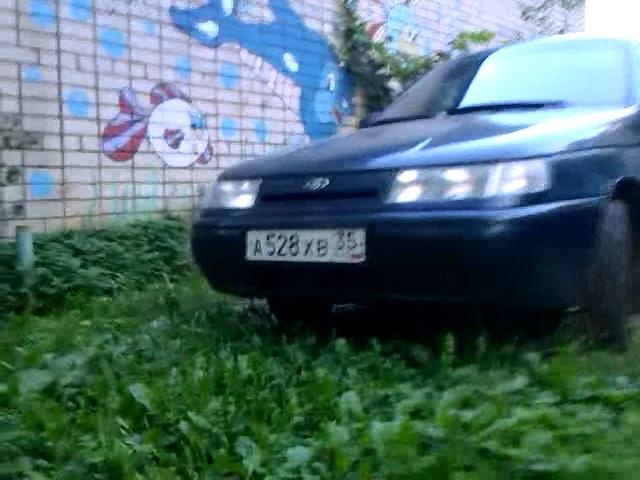car license plate: (245, 225, 368, 268)
